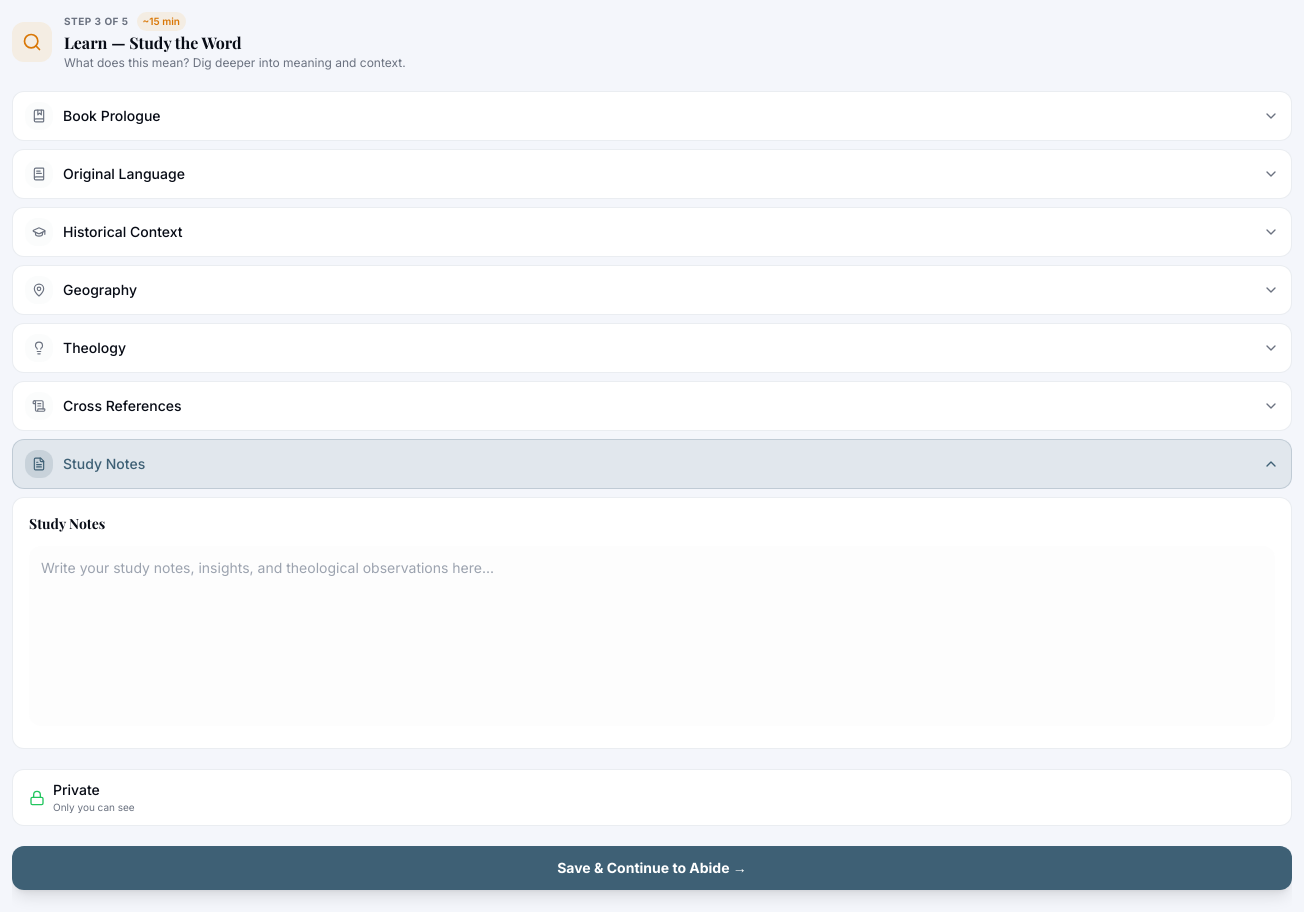
Test case: LabLearnStage sections › opens a section when its header is clicked
This screenshot has width=1304, height=912.
What coordinates should you click on to do the following:
click the button "Historical Context"
I would click on:
 (123, 232)
Its box is x1=12 y1=207 x2=1292 y2=257.
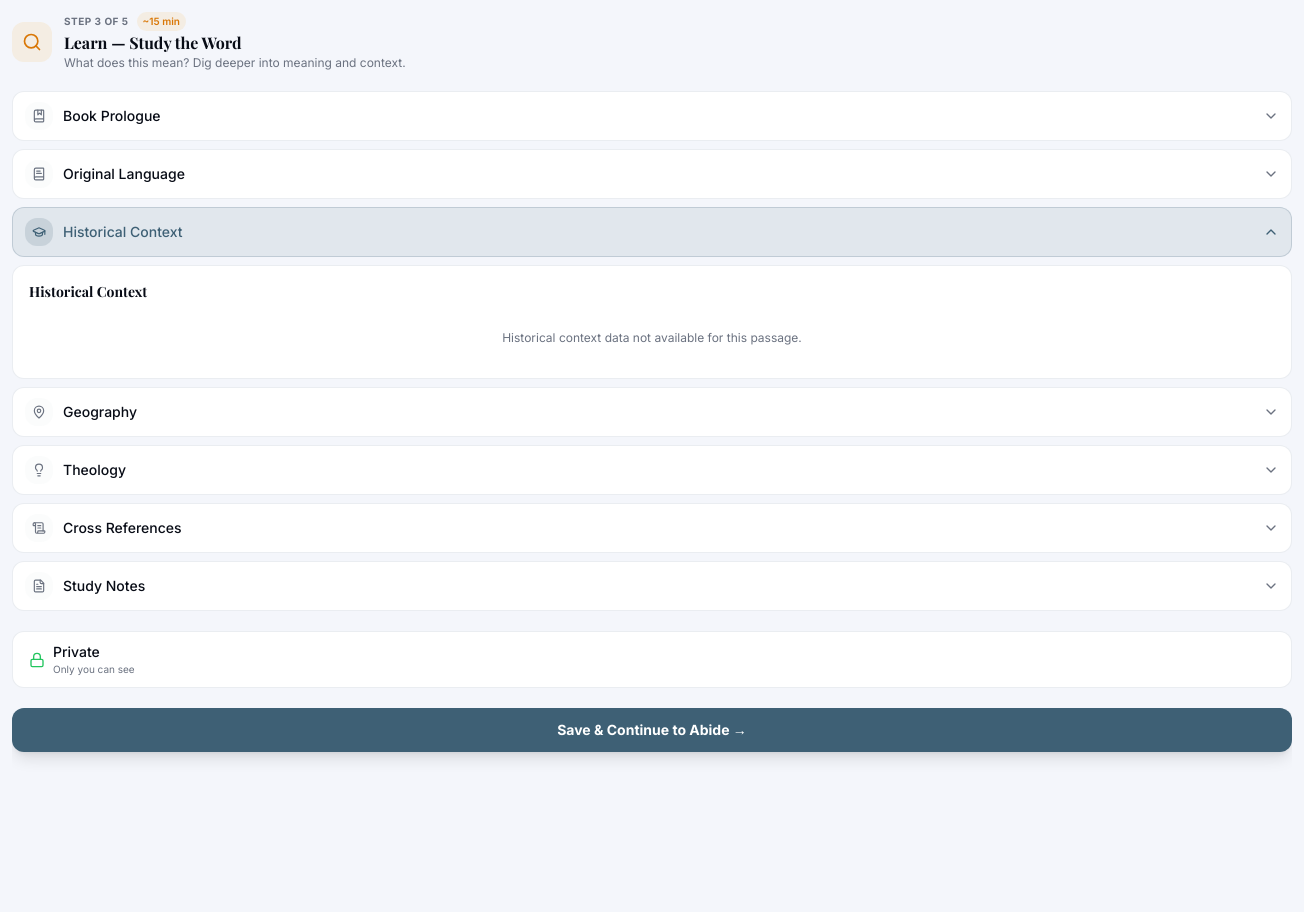
Expected: the button "Historical Context" is expanded, x1=12 y1=207 x2=1292 y2=257
Expected: the text "Historical context data not available for this passage." is shown, x1=502 y1=330 x2=802 y2=345
